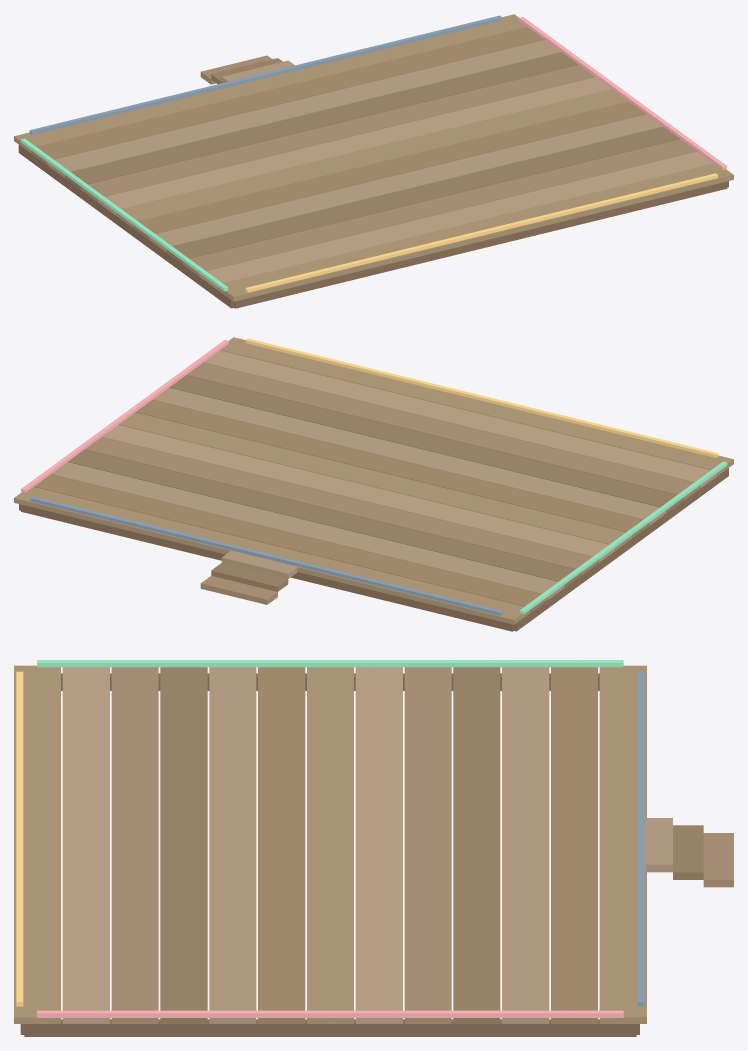
The model's file is stage.glb.
3 renders of one model, top to bottom at view 1: azimuth 30°, elevation 25°; view 2: azimuth 150°, elevation 25°; view 3: azimuth 270°, elevation 25°, orthographic. The views are drawn at different scales.
Visible parts, largest first — view 1: Stage_Plank_00, Stage_Skirt_Front, Stage_Footlight; view 2: Stage_Plank_00, Stage_Skirt_Front, Stage_Footlight; view 3: Stage_Plank_00, Stage_Skirt_Front, Stage_Footlight.
Part boxes in pixels (x1,y1,x2,y2): Stage_Plank_00: (14,14,733,301); Stage_Skirt_Front: (18,145,728,308); Stage_Footlight: (245,173,717,292); Stage_Plank_00: (14,337,733,624); Stage_Skirt_Front: (19,468,728,631); Stage_Footlight: (245,338,718,457); Stage_Plank_00: (14,660,733,1023); Stage_Skirt_Front: (20,673,639,1036); Stage_Footlight: (16,671,23,1006).
Size of the model in its own units: 6.03 by 0.25 by 5.19.
4 materials, 4 textured.
